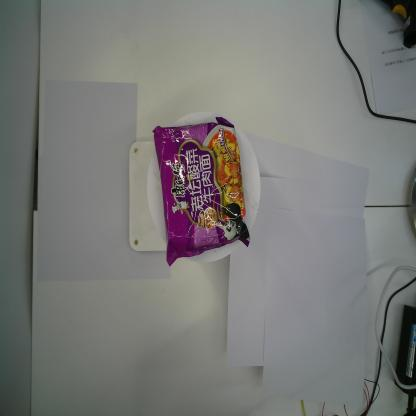Instant Noodles: (152, 116, 250, 268)
